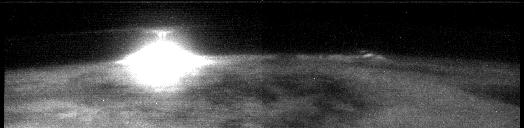negative: (147, 27, 175, 40)
